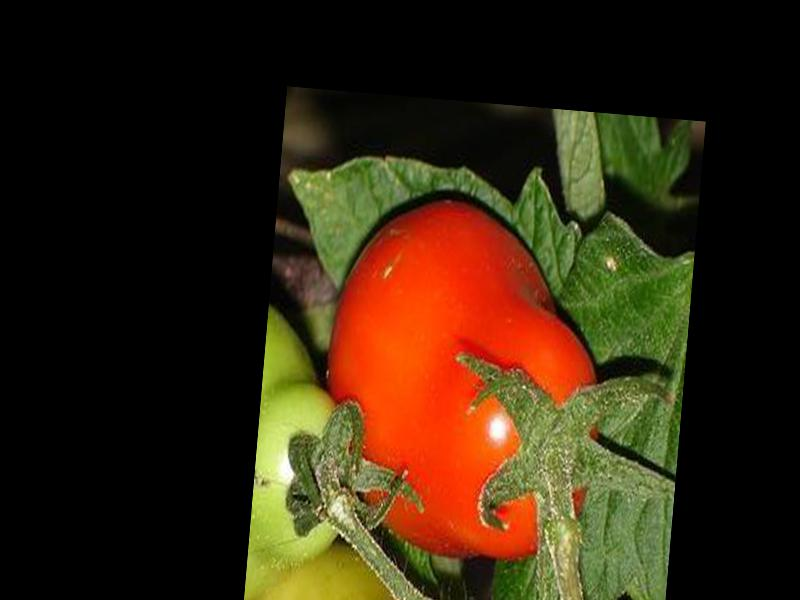Tomato: (313, 189, 615, 565)
